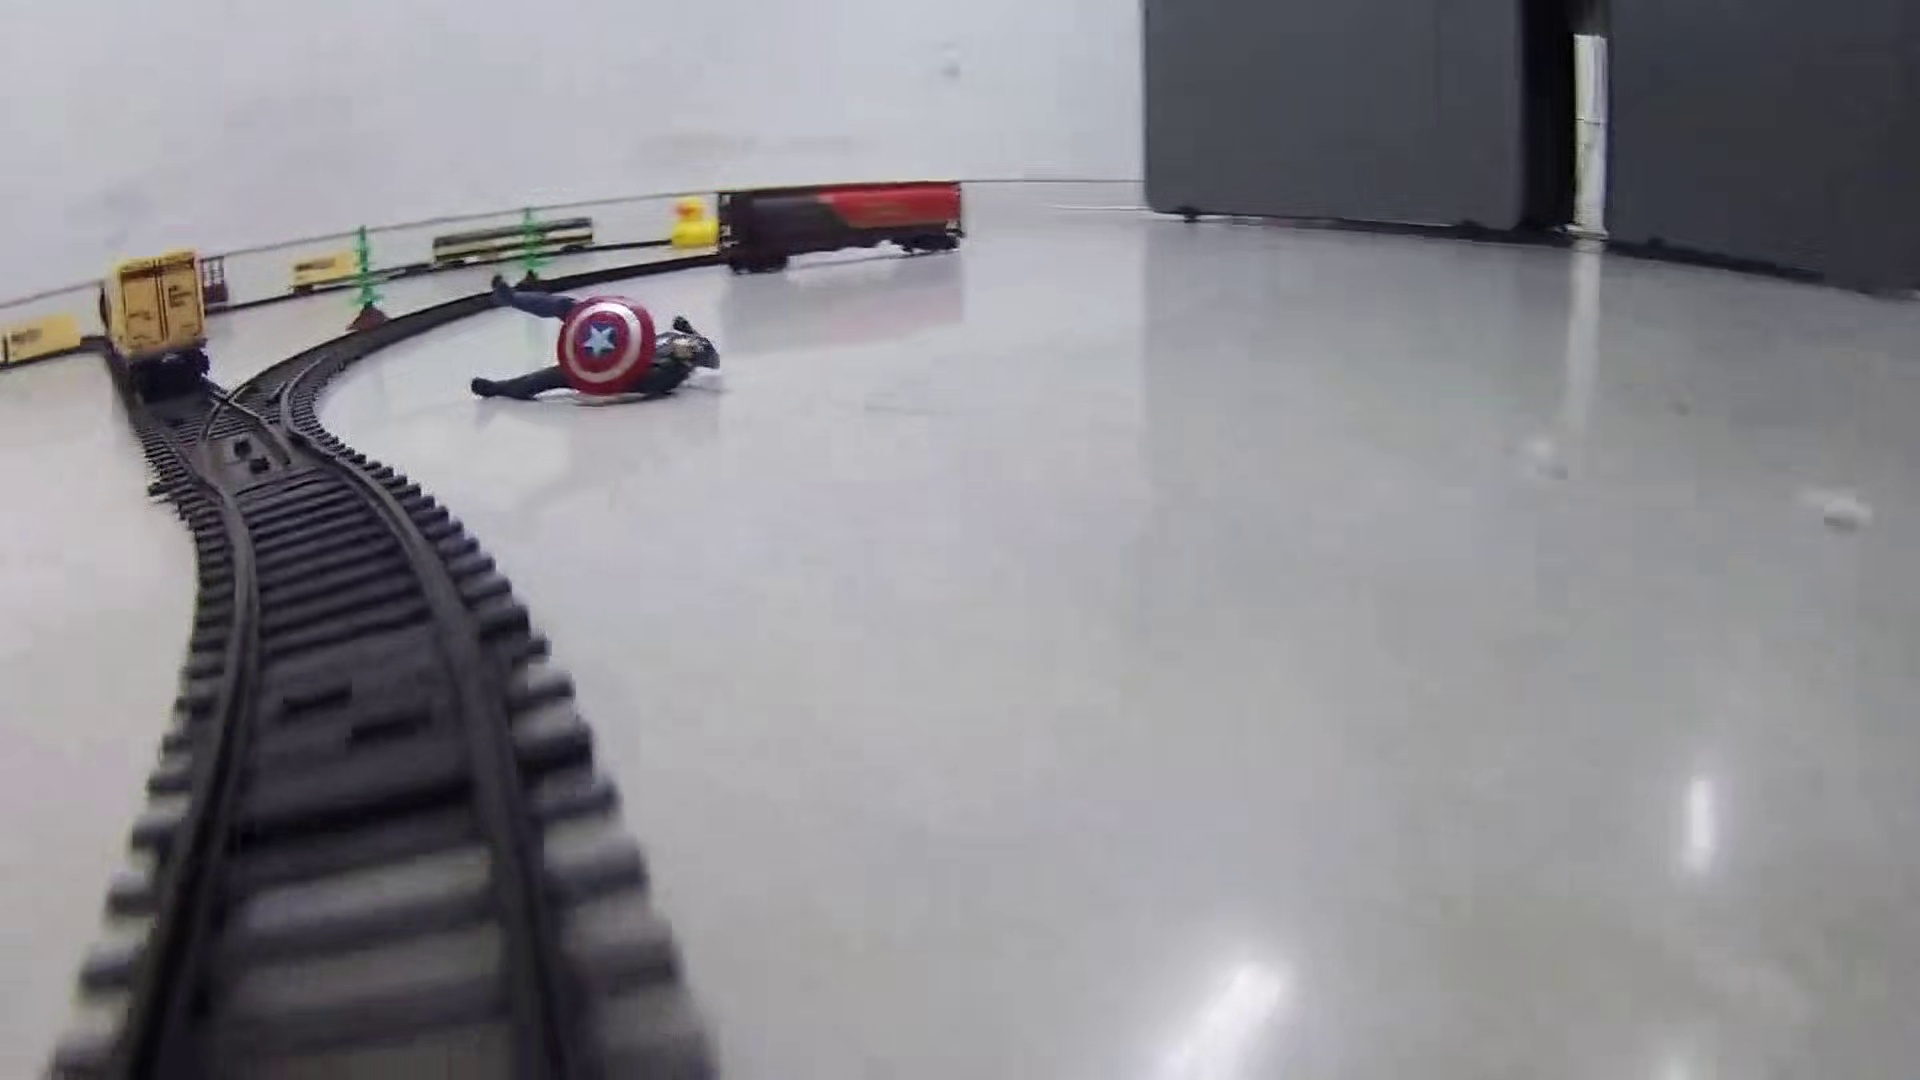people: (470, 274, 725, 411)
tree: (343, 224, 400, 336)
